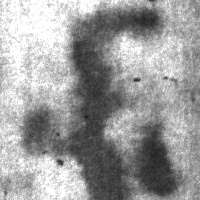patches: (69, 7, 162, 200), (130, 120, 182, 200), (20, 103, 73, 161)
